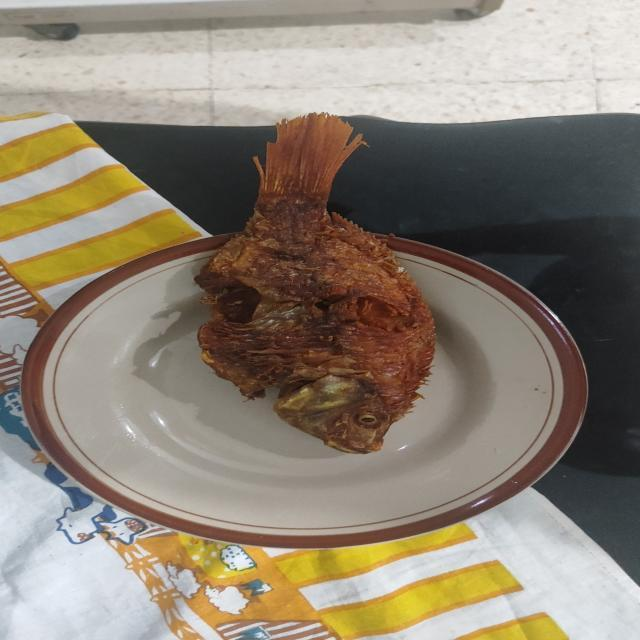ikan_mujair: (194, 114, 436, 454)
